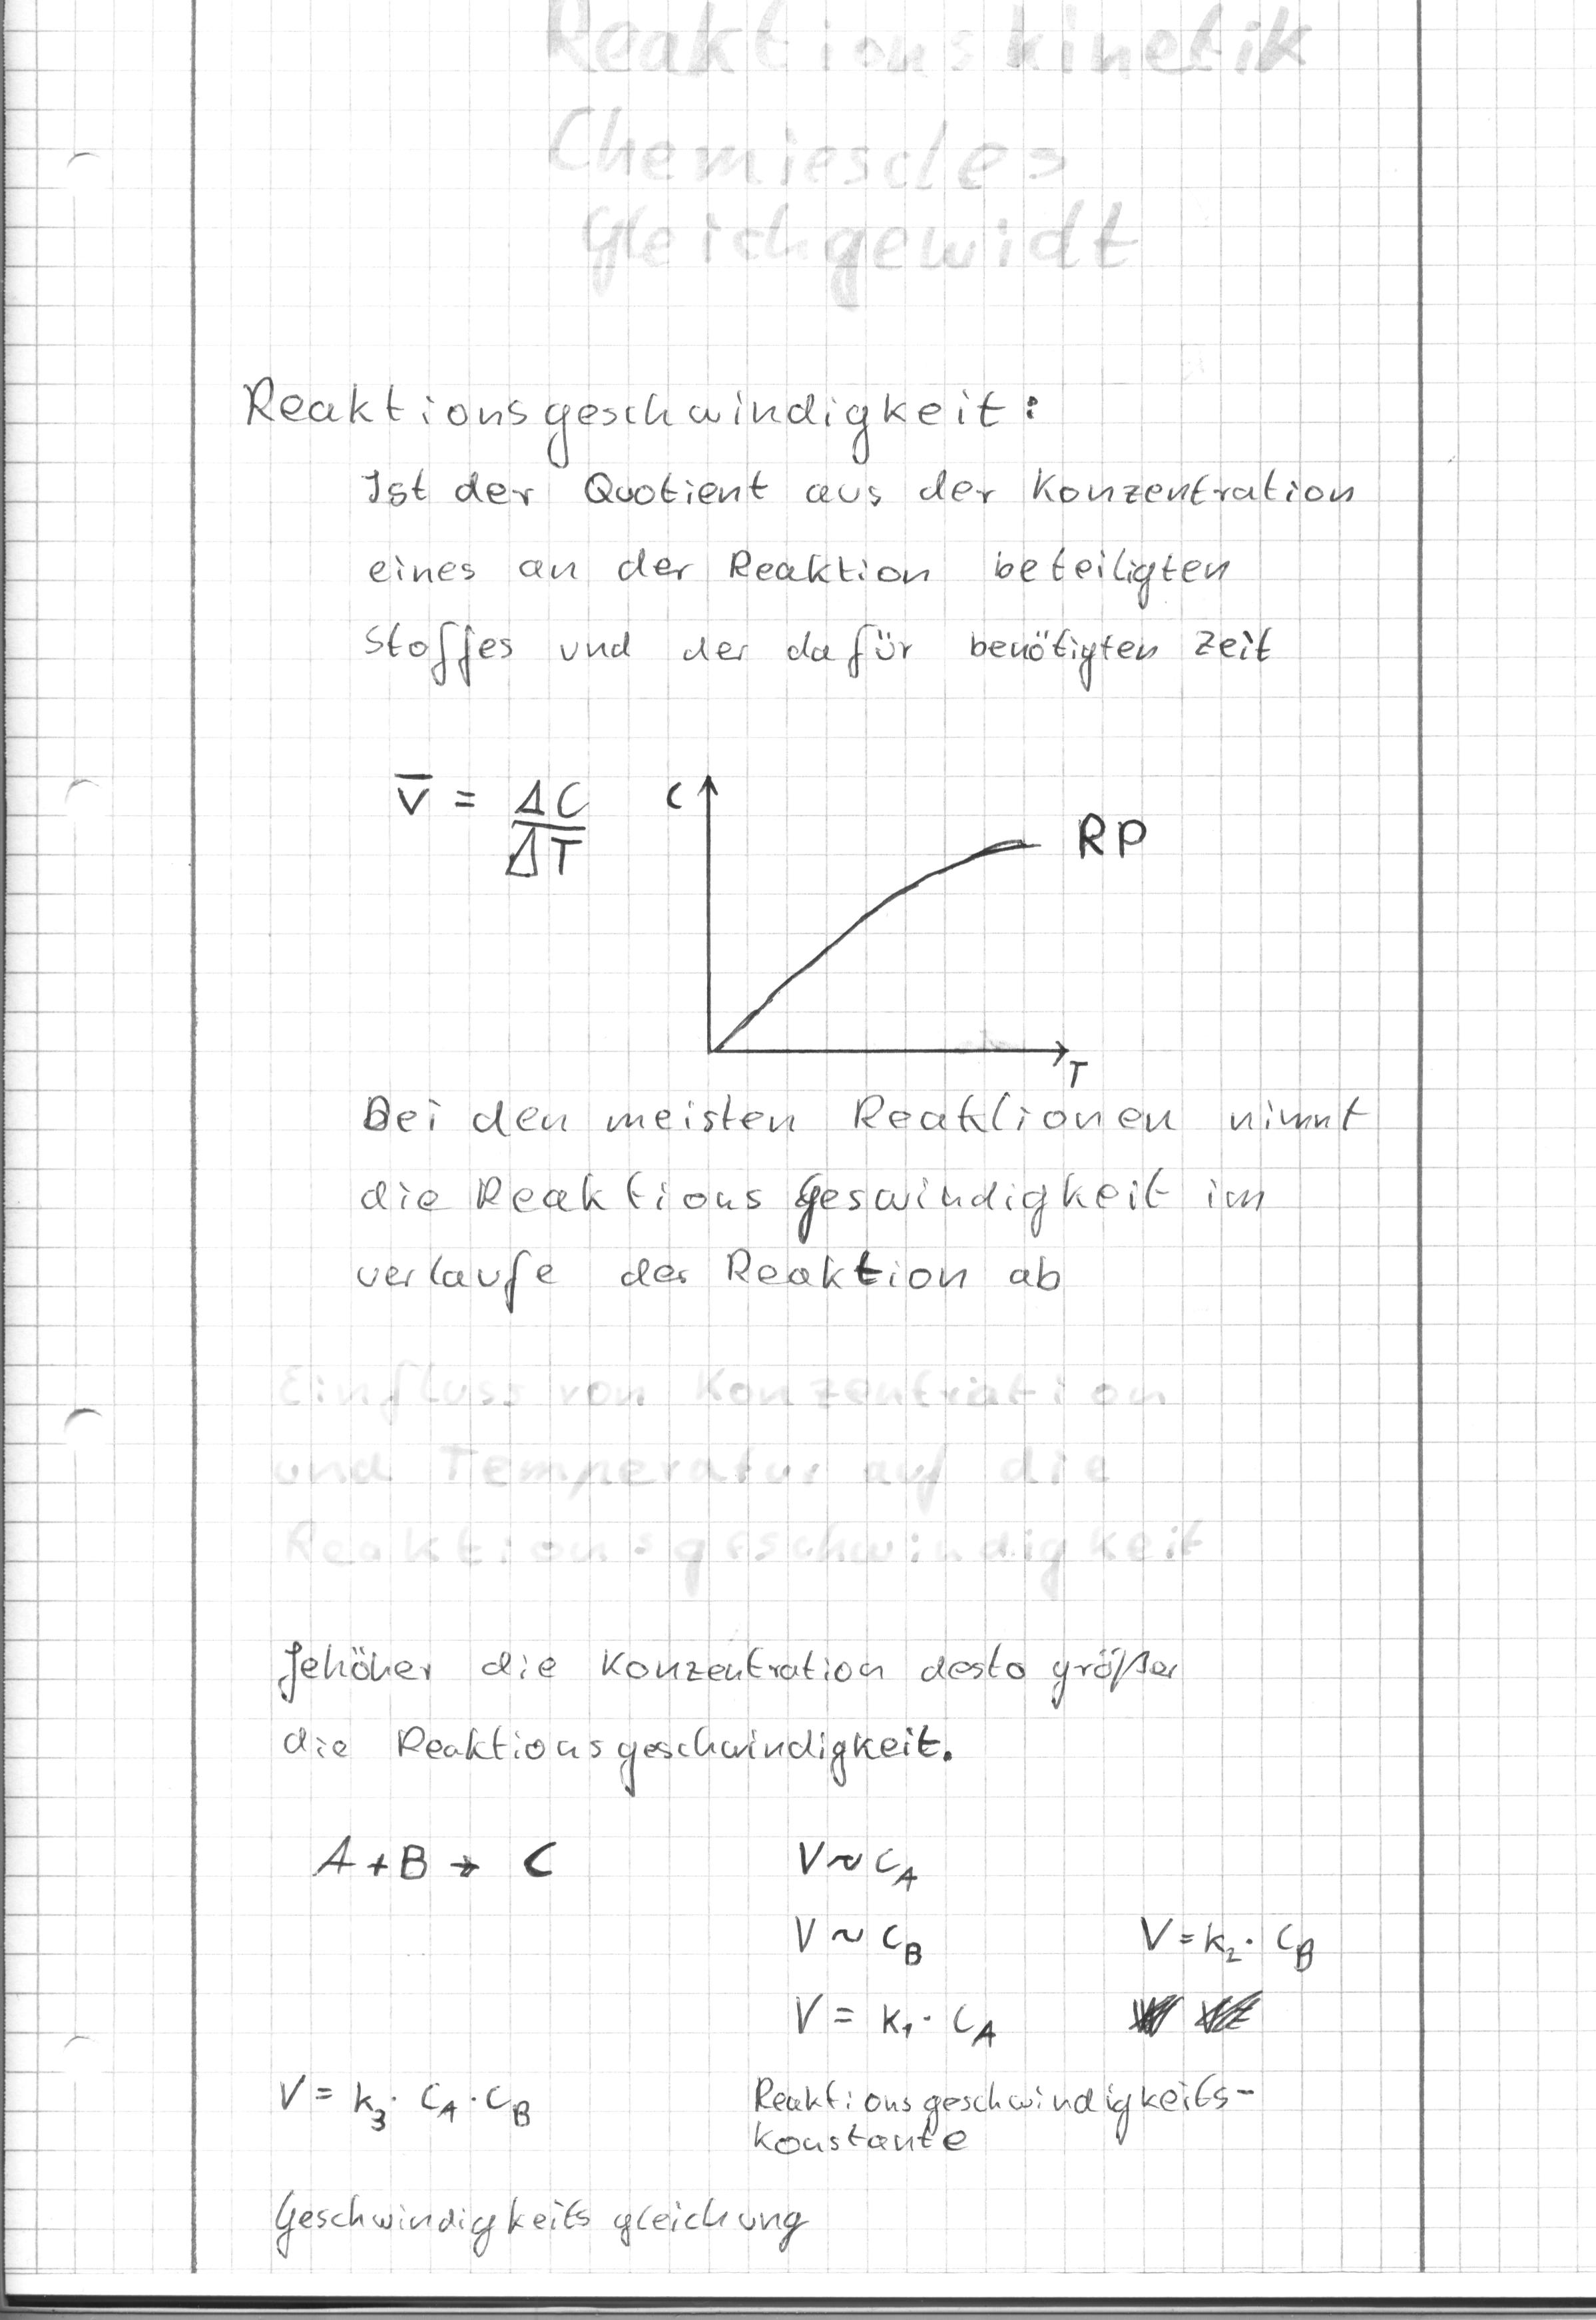word: (347, 455, 1370, 711), (343, 1079, 1383, 1312), (263, 1625, 1191, 1808), (222, 353, 1067, 473), (732, 2059, 1270, 2174), (761, 1825, 1016, 2062), (257, 2179, 817, 2273), (370, 744, 617, 910), (1118, 1898, 1336, 2059), (262, 2058, 562, 2154), (294, 1811, 584, 1912), (1057, 790, 1171, 885)
